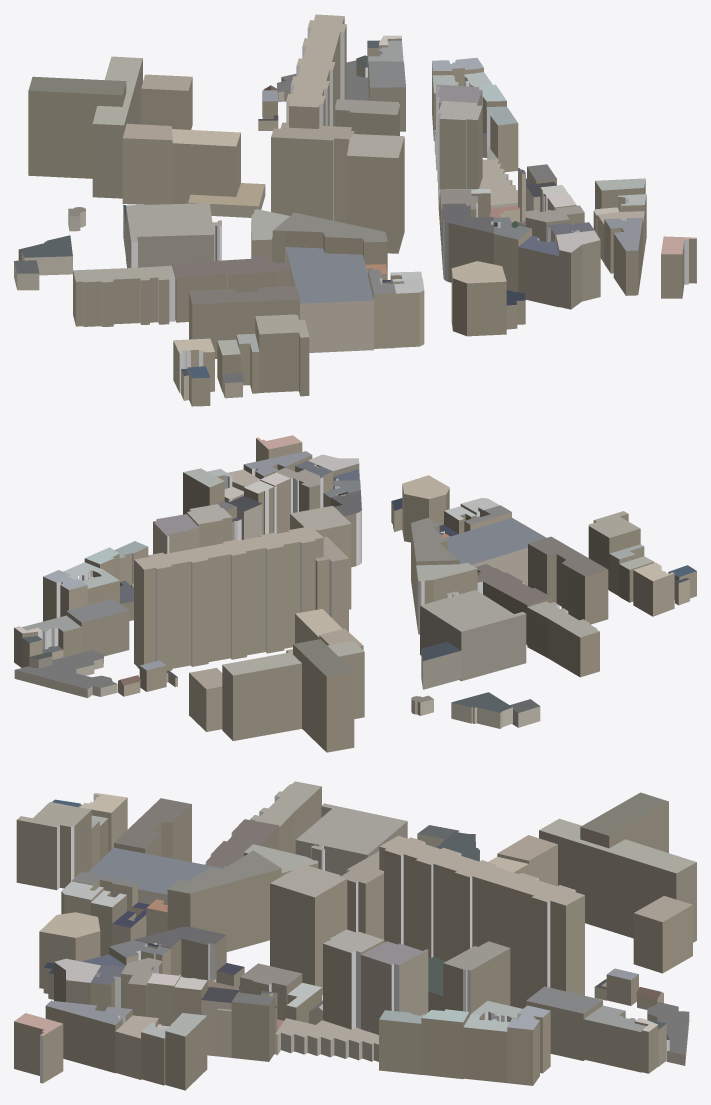
3 views of the same model, one above another, from view 1: azimuth 30°, elevation 25°; view 2: azimuth 150°, elevation 25°; view 3: azimuth 270°, elevation 25° (orthographic). The views are drawn at different scales.
Visible parts, largest first — view 1: tuile; view 2: tuile; view 3: tuile.
Boxes of the visible parts, left/top/right/bottom form: tuile: left=14, top=14, right=696, bottom=406; tuile: left=14, top=435, right=696, bottom=752; tuile: left=14, top=781, right=696, bottom=1090.
Bounding box in the file's own units: 255 × 62.2 × 272.
